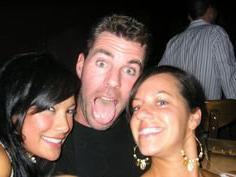Drunk: (85, 36, 134, 130), (133, 79, 184, 154), (36, 95, 76, 157)
